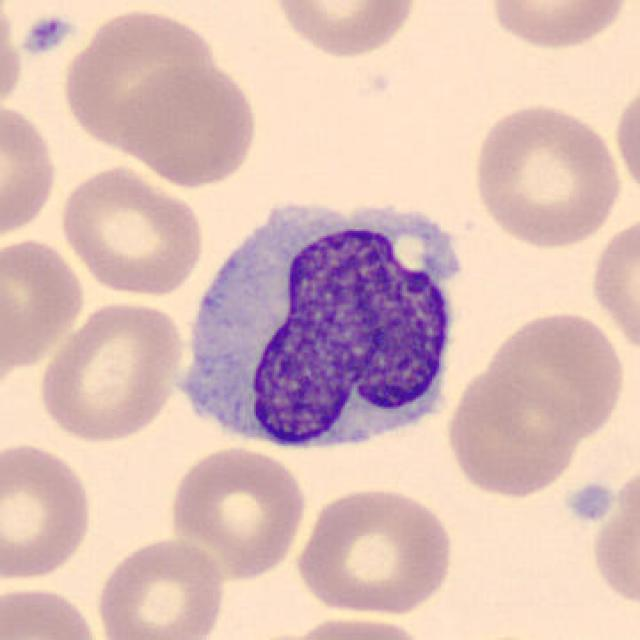Lymphocyte: (169, 187, 469, 465)
Monocyte: (169, 187, 467, 465)
Platelets: (576, 469, 635, 571), (565, 478, 617, 524), (19, 12, 73, 56)
RBC: (58, 3, 220, 154), (468, 99, 626, 250), (292, 483, 458, 619), (34, 298, 188, 444), (55, 162, 208, 298), (482, 305, 629, 446), (166, 442, 310, 582), (443, 363, 583, 501), (116, 60, 262, 190), (93, 532, 230, 640), (0, 438, 96, 586), (0, 233, 87, 377), (265, 0, 419, 62), (0, 99, 62, 243), (583, 462, 640, 610), (586, 210, 640, 358), (485, 0, 633, 53), (0, 582, 103, 640), (284, 612, 434, 640), (611, 77, 640, 202), (0, 0, 25, 120)
